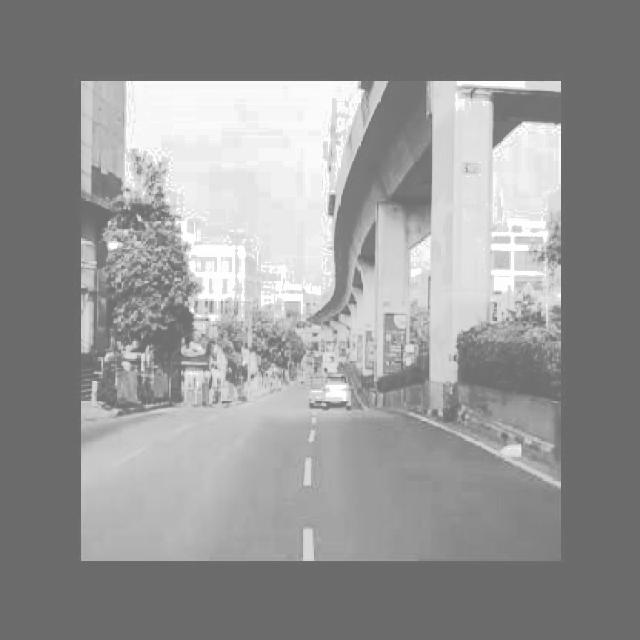Car: (320, 371, 364, 422)
